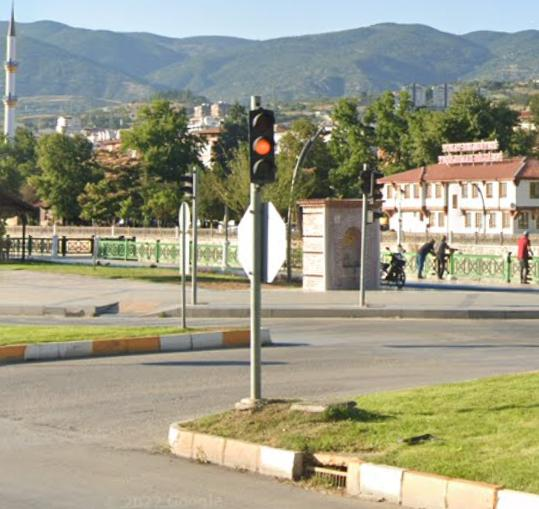yellowlight: (249, 108, 277, 184)
